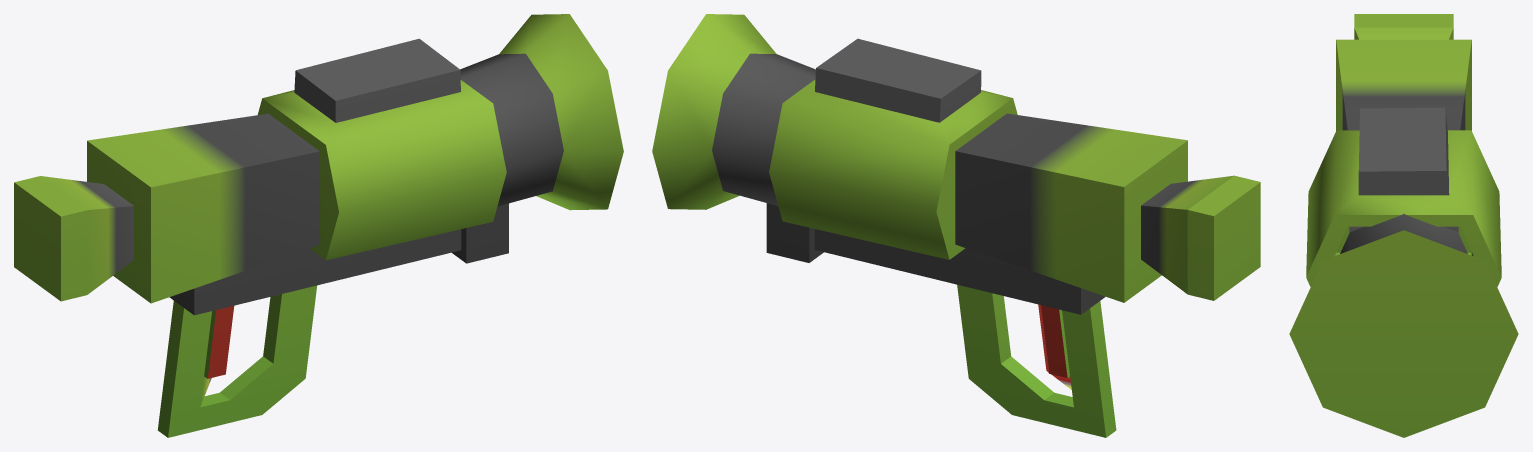
The model's file is RocketLauncher.fbx.
The picture shows the model from 3 angles, left to right: view 1: azimuth 30°, elevation 25°; view 2: azimuth 150°, elevation 25°; view 3: azimuth 270°, elevation 25°; orthographic projection. The views are drawn at different scales.
Visible parts, largest first — view 1: Weapon2; view 2: Weapon2; view 3: Weapon2.
Boxes of the visible parts, x1,y1,x2,y2 form: Weapon2: (14,14,623,437); Weapon2: (652,14,1260,437); Weapon2: (1289,14,1518,437).
Bounding box in the file's own units: 6.08 × 3.51 × 2.14.
